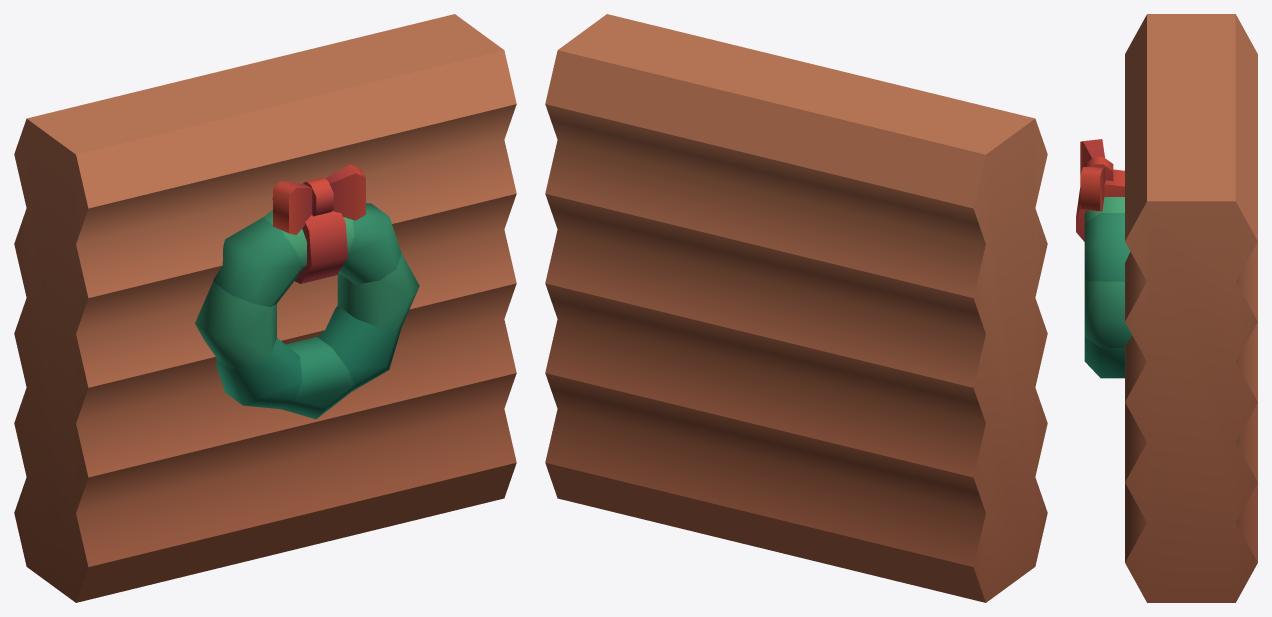
File: cabin-wall-wreath.glb
3 renders of one model, left to right at view 1: azimuth 30°, elevation 25°; view 2: azimuth 150°, elevation 25°; view 3: azimuth 270°, elevation 25°, orthographic. The views are drawn at different scales.
Parts seen in each view (by area): view 1: cabin-wall-wreath; view 2: cabin-wall-wreath; view 3: cabin-wall-wreath.
Part boxes in pixels (x1,y1,x2,y2): cabin-wall-wreath: (14, 14, 516, 602); cabin-wall-wreath: (545, 14, 1047, 602); cabin-wall-wreath: (1076, 14, 1257, 602).
Size of the model in its own units: 1 by 1 by 0.4104.
